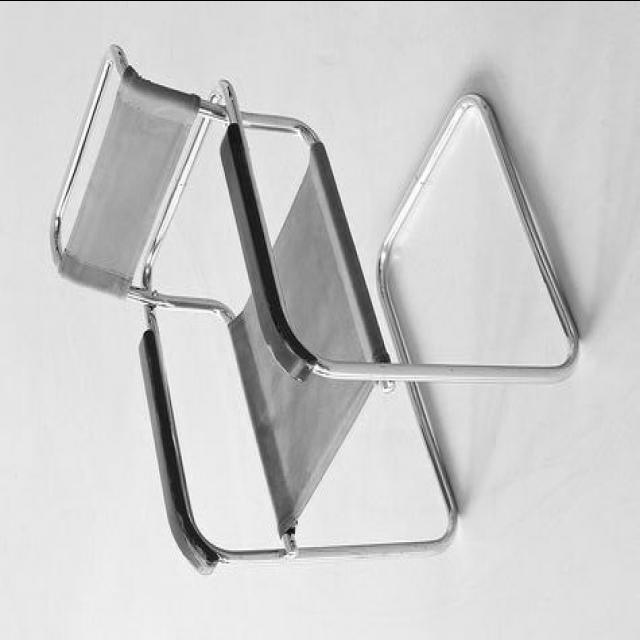chair: (46, 29, 584, 576)
